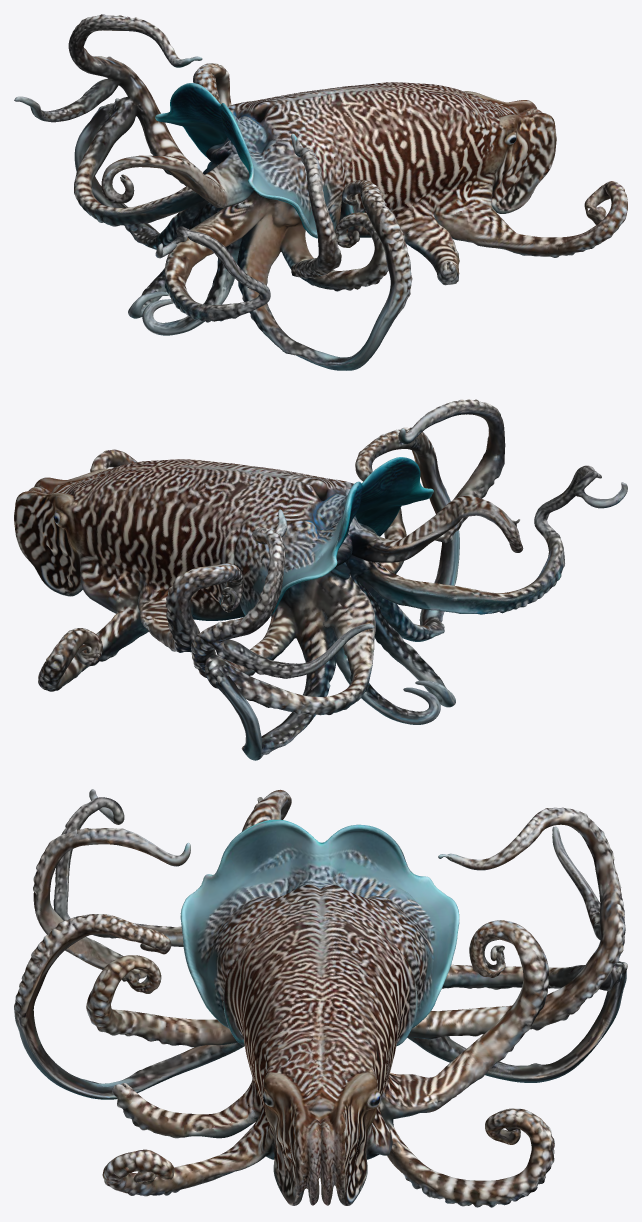
File: luyvwj-fwgyww.glb
3 renders of one model, top to bottom at view 1: azimuth 30°, elevation 25°; view 2: azimuth 150°, elevation 25°; view 3: azimuth 270°, elevation 25°, orthographic. The views are drawn at different scales.
Parts seen in each view (by area): view 1: tripo_node_3c5e157f-4ea0-49a1-bcec-d54be6f86614; view 2: tripo_node_3c5e157f-4ea0-49a1-bcec-d54be6f86614; view 3: tripo_node_3c5e157f-4ea0-49a1-bcec-d54be6f86614.
Boxes of the visible parts, bbox=[...] form: tripo_node_3c5e157f-4ea0-49a1-bcec-d54be6f86614: bbox=[14, 14, 627, 370]; tripo_node_3c5e157f-4ea0-49a1-bcec-d54be6f86614: bbox=[14, 399, 627, 760]; tripo_node_3c5e157f-4ea0-49a1-bcec-d54be6f86614: bbox=[14, 789, 627, 1207].
Size of the model in its own units: 1 by 0.4439 by 0.9127.
Materials: 1 (1 with a texture image).
